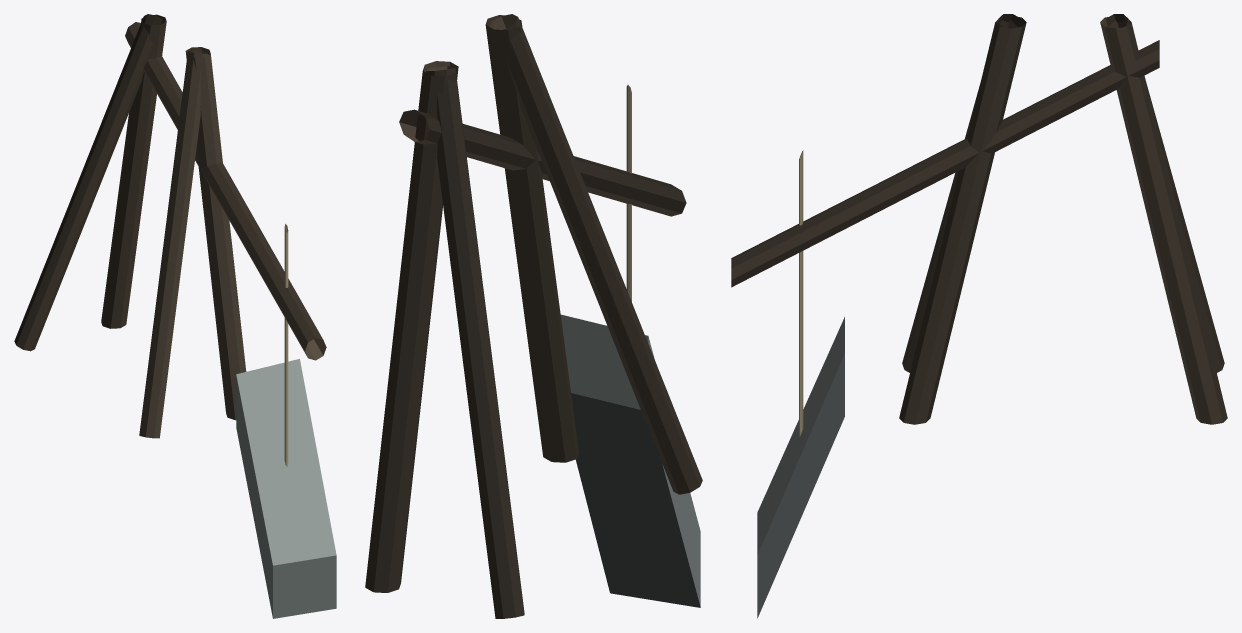
3 renders of one model, left to right at view 1: azimuth 30°, elevation 25°; view 2: azimuth 150°, elevation 25°; view 3: azimuth 270°, elevation 25°, orthographic. The views are drawn at different scales.
Visible parts, largest first — view 1: d19a9ec61bf3e2167305b1ec60349ad345495793f1c33004d41cc089d544; view 2: d19a9ec61bf3e2167305b1ec60349ad345495793f1c33004d41cc089d544; view 3: d19a9ec61bf3e2167305b1ec60349ad345495793f1c33004d41cc089d544.
Part boxes in pixels (x1=…): d19a9ec61bf3e2167305b1ec60349ad345495793f1c33004d41cc089d544: x1=14, y1=14, x2=336, y2=618; d19a9ec61bf3e2167305b1ec60349ad345495793f1c33004d41cc089d544: x1=365, y1=14, x2=702, y2=618; d19a9ec61bf3e2167305b1ec60349ad345495793f1c33004d41cc089d544: x1=731, y1=14, x2=1227, y2=618.
Size of the model in its own units: 2.04 by 7.35 by 5.68.
3 materials, 1 textured.
